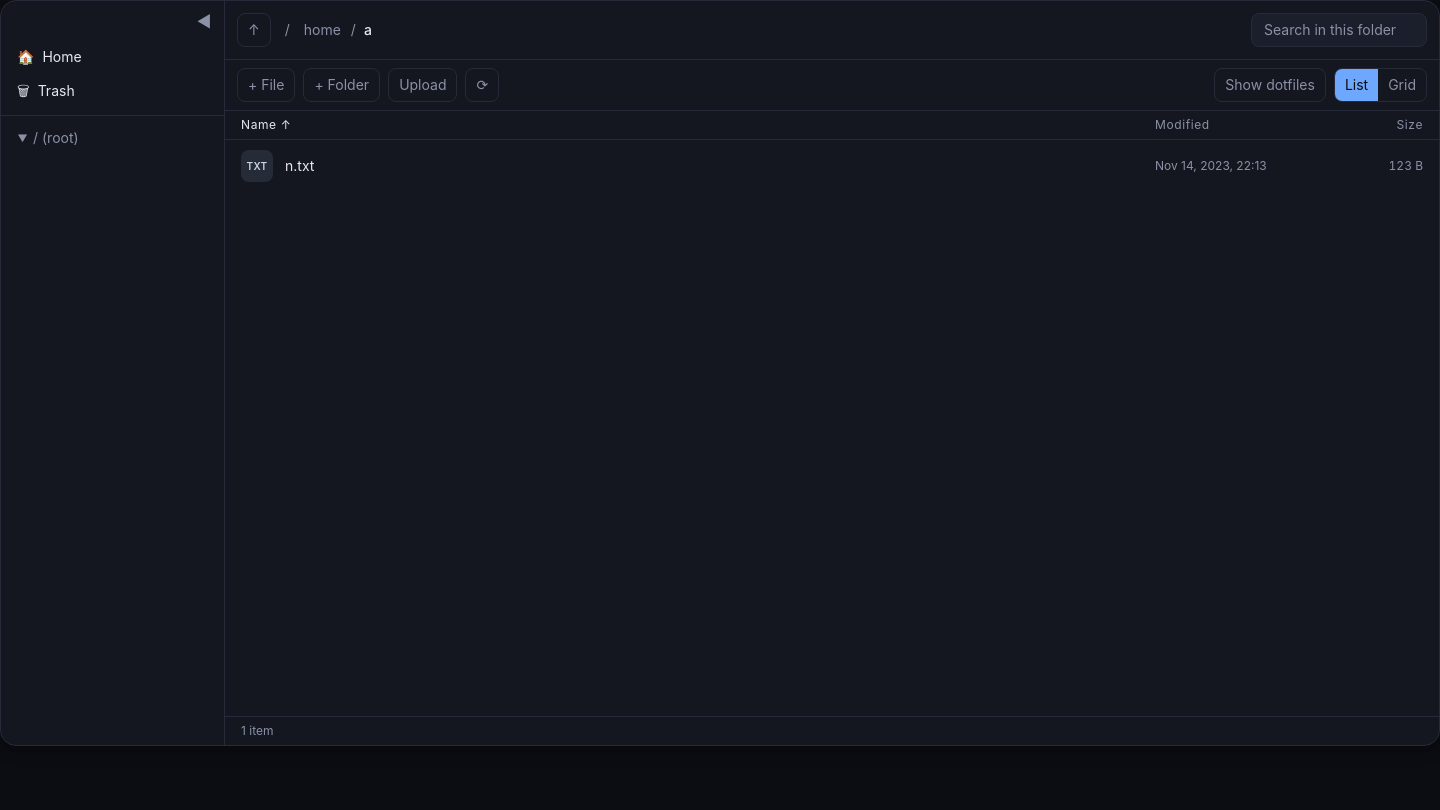
Test case: Files page › opens Properties for an entry from its context menu and shows its details
Right-click the option "TXT n.txt Nov 14, 2023, 22:13 123 B" at coordinates (257, 166), box [229,144,1435,188]
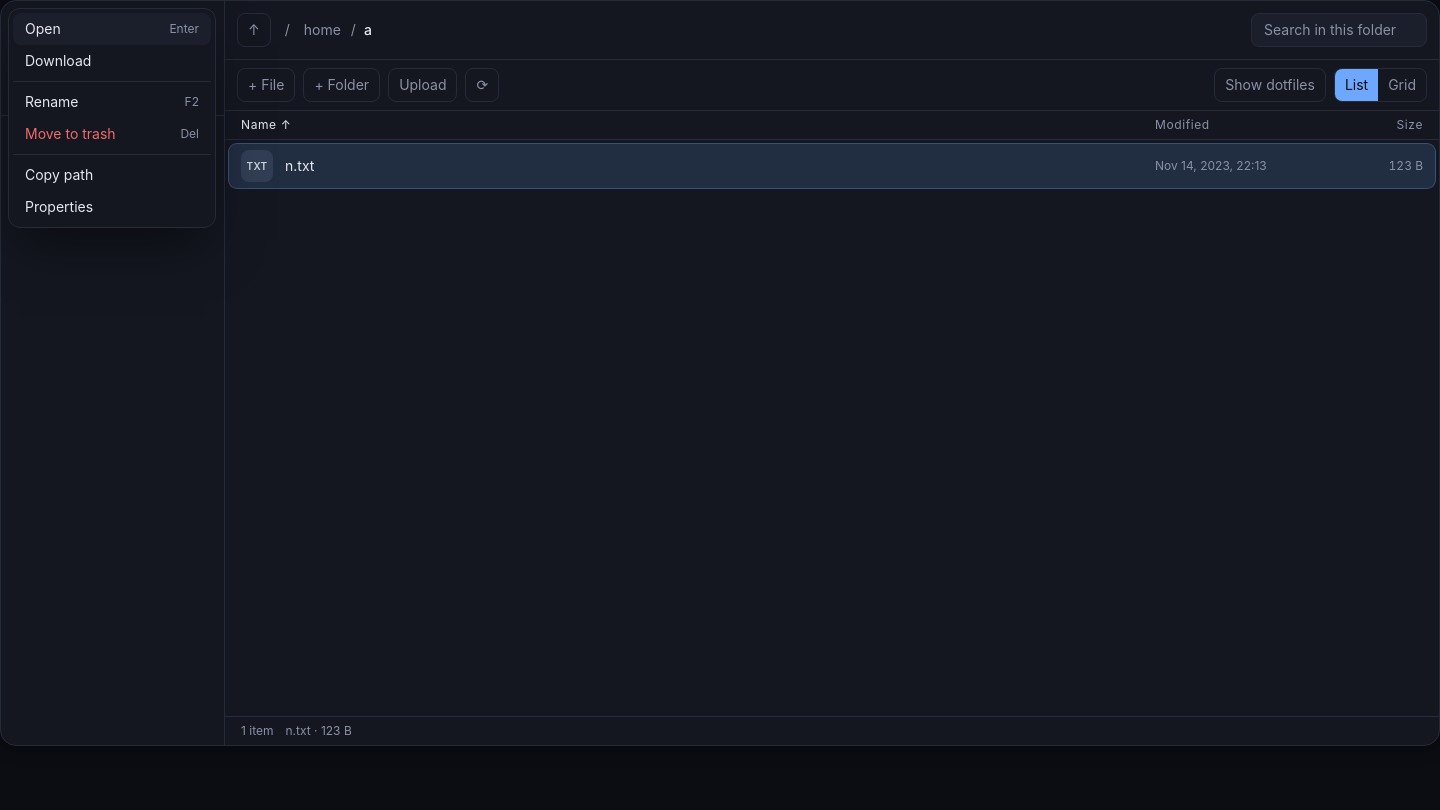
Click the menu item "Properties" at coordinates (112, 207), box [13,191,211,223]
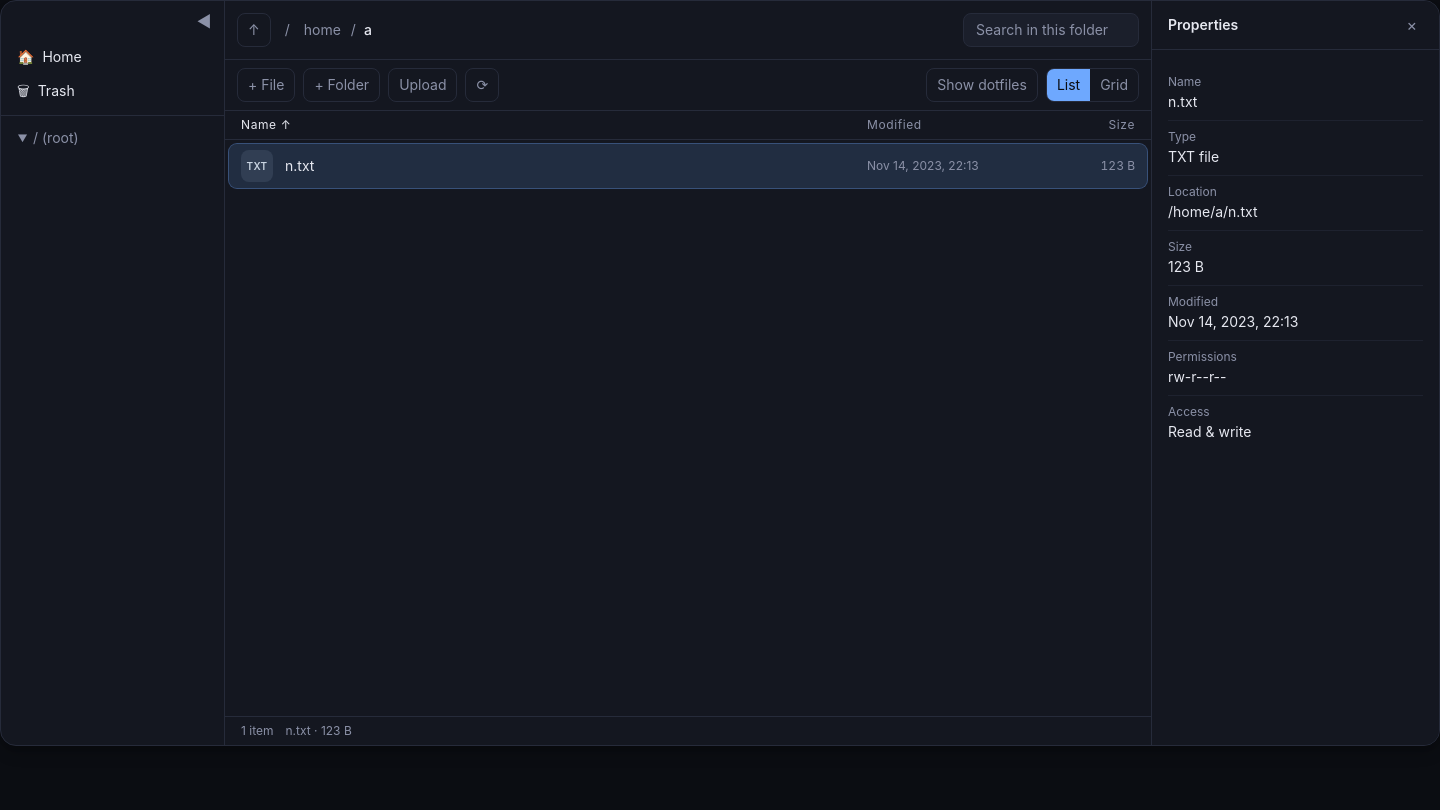
Check: the element "Properties" shows "n.txt", box [1168,93,1197,110]
Check: the element "Properties" shows "/home/a/n.txt", box [1168,203,1258,220]
Click the button named "Close properties" at coordinates (1412, 25), box [1400,13,1423,37]
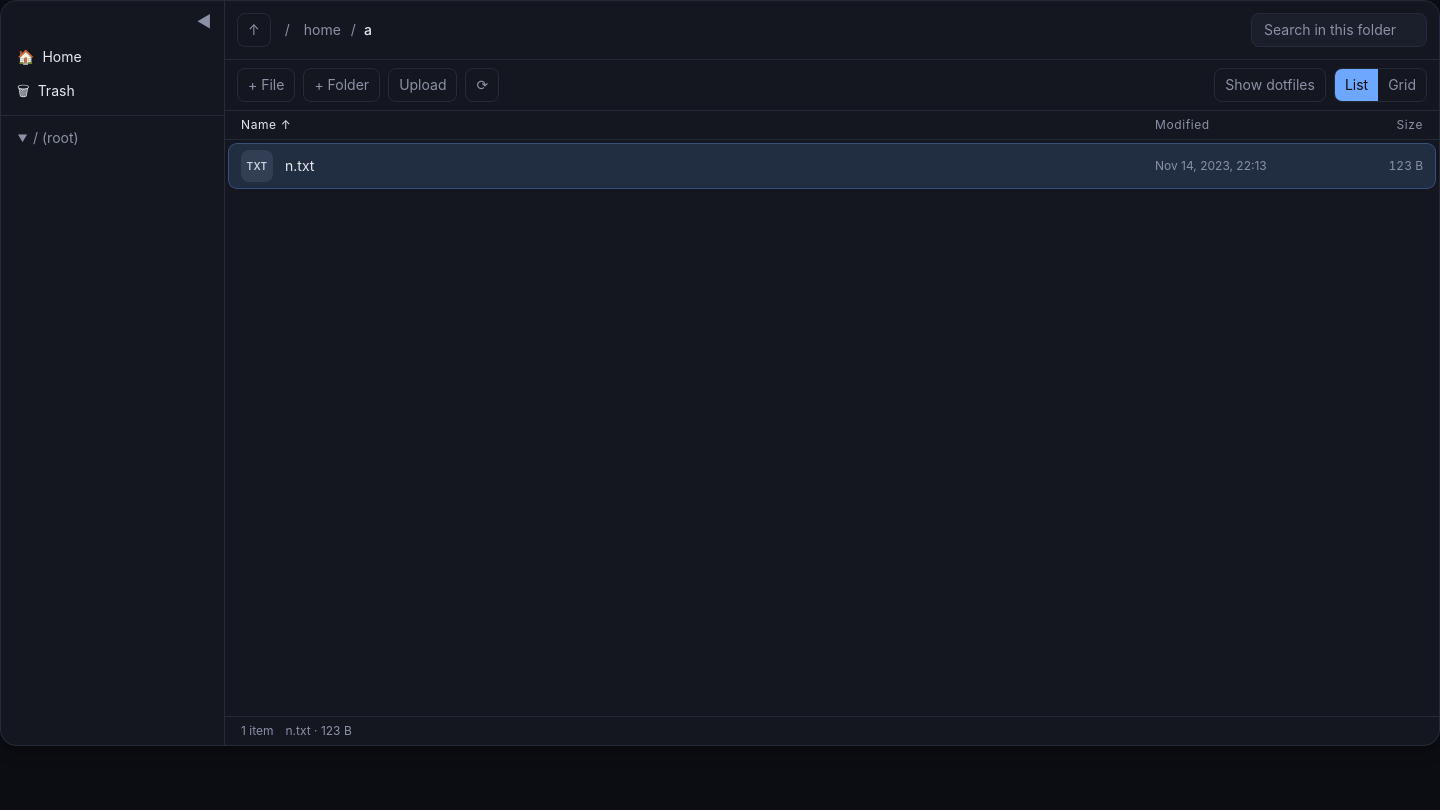
Check: the heading "Properties" is gone
